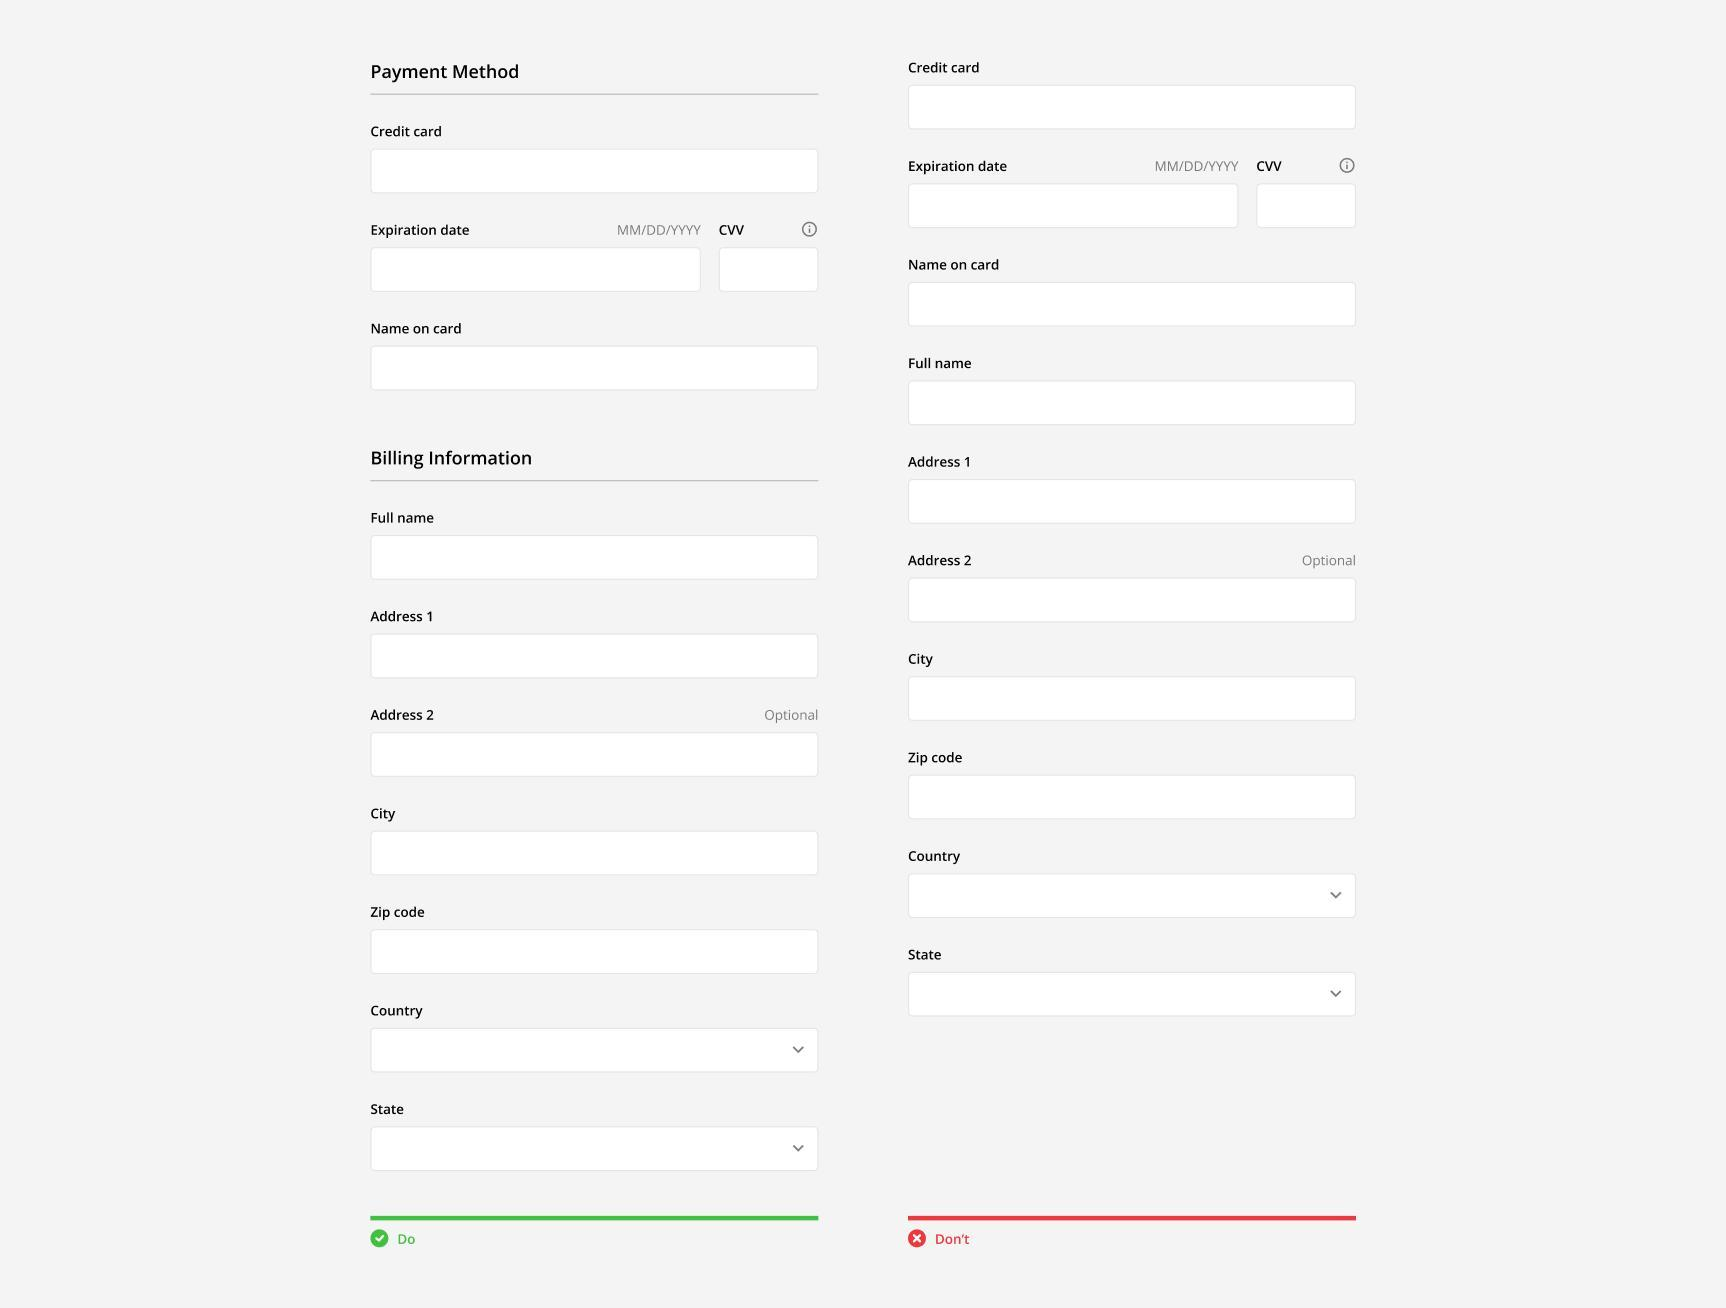dropdown: (370, 1124, 823, 1176), (907, 971, 1358, 1021), (908, 872, 1358, 922), (372, 1026, 819, 1074)
icon: (797, 217, 822, 243), (1338, 154, 1360, 177)
input: (907, 576, 1359, 629), (906, 378, 1358, 430), (370, 926, 820, 978), (908, 477, 1359, 528), (370, 730, 820, 780), (907, 282, 1356, 332), (368, 345, 822, 394), (907, 676, 1360, 725), (370, 533, 822, 583), (371, 830, 822, 879), (370, 147, 823, 195), (906, 84, 1359, 132), (370, 633, 820, 681), (906, 776, 1359, 823), (907, 181, 1242, 231), (370, 247, 704, 295), (1255, 181, 1359, 228), (716, 247, 822, 293)
label: (370, 223, 704, 240), (907, 157, 1240, 174), (371, 319, 464, 339), (907, 257, 1005, 273), (371, 124, 445, 142), (908, 60, 983, 78), (368, 508, 437, 528), (906, 354, 973, 372), (371, 708, 438, 724), (371, 903, 427, 922), (907, 552, 974, 567), (1301, 551, 1358, 569), (906, 848, 962, 866), (910, 455, 974, 470), (765, 708, 823, 724), (908, 750, 963, 767), (372, 610, 437, 624), (371, 1002, 425, 1018), (370, 1101, 407, 1117), (908, 651, 940, 670), (1255, 158, 1288, 176), (910, 948, 945, 963), (370, 805, 399, 823), (717, 223, 750, 238)
